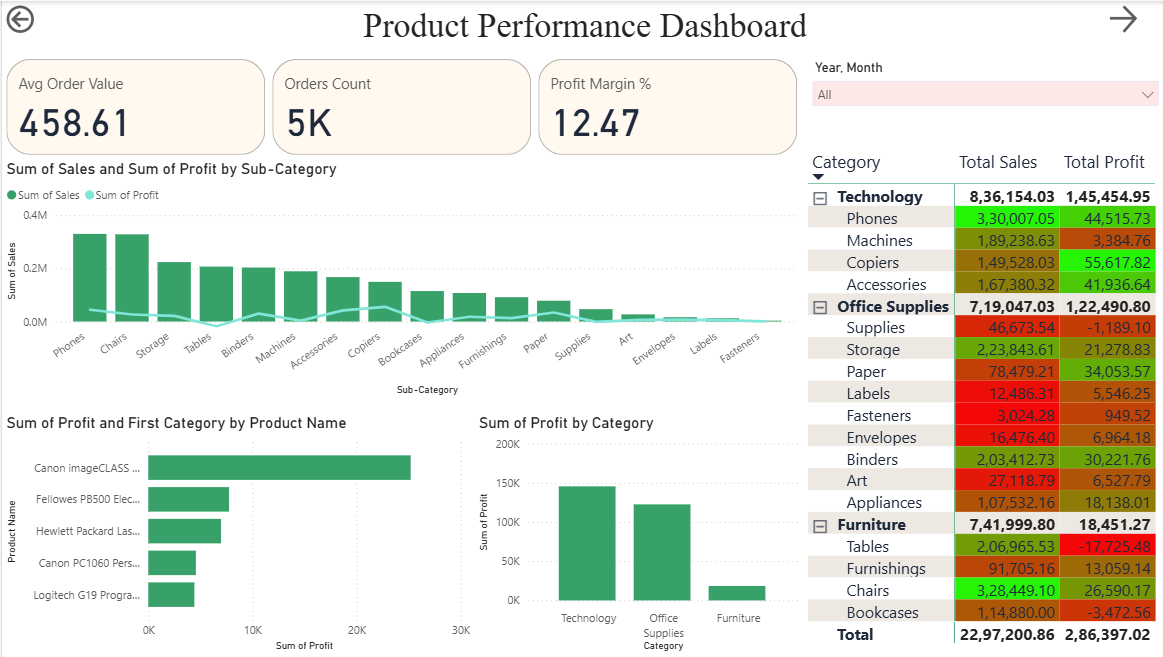

The dashboard page shown, as its layout file describes it:
{"tool":"powerbi","page":{"name":"Page 2","canvas":[1280,720],"ordinal":1},"visuals":[{"type":"textbox","box":[0,0,1280.3,54.9],"z":0},{"type":"clusteredBarChart","fields":{"Category":["Product.Product Name"],"Y":["Sum(Sales.Profit)"]},"box":[0,452.8,518.7,266.2],"z":1000},{"type":"lineClusteredColumnComboChart","fields":{"Category":["Product.Sub-Category"],"Y":["Sum(Sales.Sales)"],"Y2":["Sum(Sales.Profit)"]},"box":[0,174.3,879.6,263.5],"z":2000},{"type":"pivotTable","fields":{"Values":["Sales.Total Sales","Sales.Total Profit"],"Rows":["Product.Category","Product.Sub-Category"]},"box":[879.6,156.4,400.7,564],"z":3000},{"type":"columnChart","fields":{"Category":["Product.Category"],"Y":["Sum(Sales.Profit)"]},"box":[518.7,452.8,360.9,266.2],"z":4000},{"type":"slicer","fields":{"Values":["Date.Year","Date.Month"]},"box":[879.6,59,400.7,97.4],"z":5000},{"type":"actionButton","box":[0,0,100,40],"z":6000},{"type":"cardVisual","fields":{"Data":["Product.Avg Order Value","Product.Orders Count","Sales.Profit Margin %"]},"box":[0,59,879.6,115.3],"z":7000},{"type":"actionButton","box":[1210.2,0,69.8,39.9],"z":8000}]}

Visuals, with their boxes in screenshot pixels (x1, y1, x2, y2), scaled from the page's 1280x720 canvas onto the 1163x657 screenshot:
textbox: box(0, 0, 1162, 50)
clusteredBarChart - Product.Product Name x Sum(Sales.Profit): box(0, 413, 471, 656)
lineClusteredColumnComboChart - Product.Sub-Category x Sum(Sales.Sales): box(0, 159, 799, 399)
pivotTable - Sales.Total Sales x Sales.Total Profit: box(799, 143, 1162, 656)
columnChart - Product.Category x Sum(Sales.Profit): box(471, 413, 799, 656)
slicer - Date.Year x Date.Month: box(799, 54, 1162, 143)
actionButton: box(0, 0, 91, 36)
cardVisual - Product.Avg Order Value x Product.Orders Count: box(0, 54, 799, 159)
actionButton: box(1100, 0, 1162, 36)
